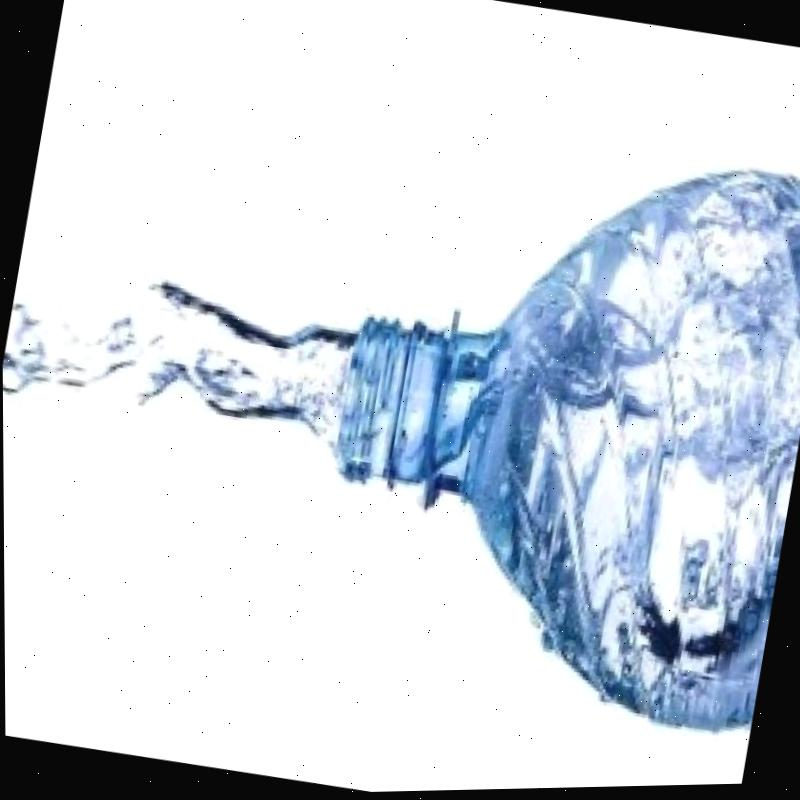botella: (291, 104, 800, 750)
